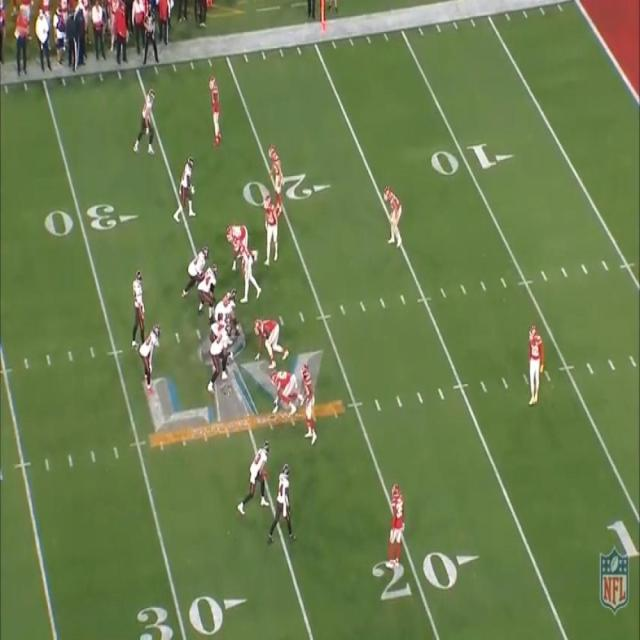center: (219, 286, 239, 316)
db: (526, 327, 545, 405), (269, 146, 287, 206), (385, 186, 403, 243), (209, 74, 221, 145), (390, 484, 400, 560)
lb: (234, 239, 258, 299), (302, 361, 318, 434)
qb: (132, 274, 143, 330)
skill: (239, 437, 269, 510), (258, 190, 280, 266), (274, 462, 293, 535), (143, 325, 160, 398), (138, 91, 158, 152), (177, 157, 195, 219)
